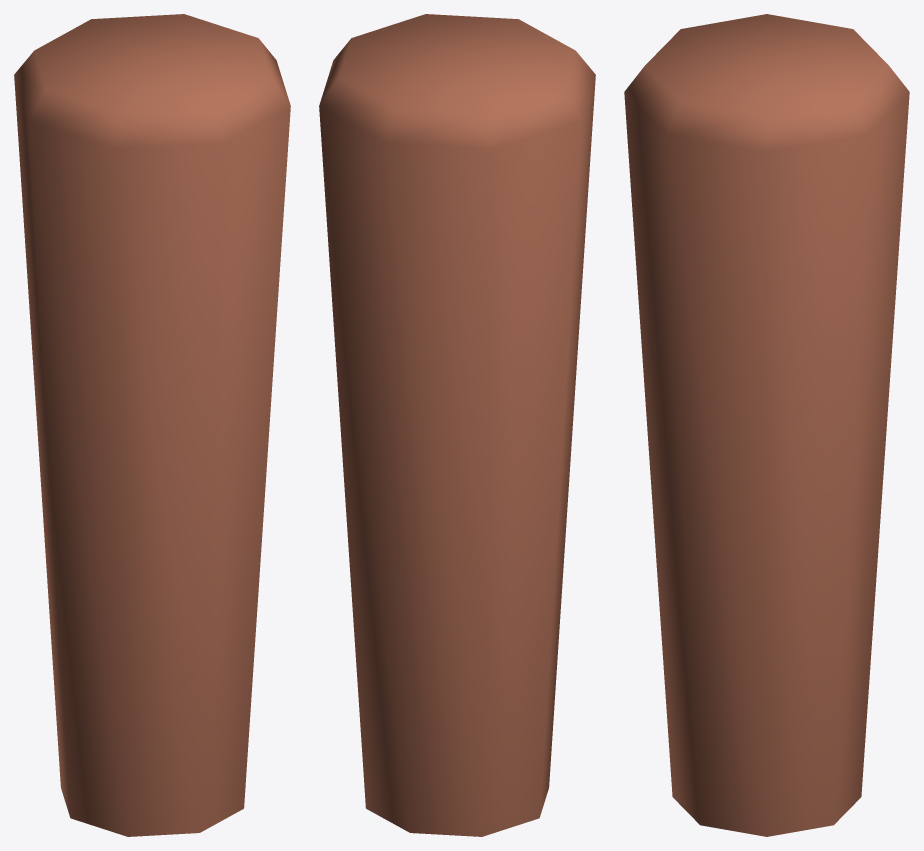
Rendered from Fence_Post_01.fbx.
3 renders of one model, left to right at view 1: azimuth 30°, elevation 25°; view 2: azimuth 150°, elevation 25°; view 3: azimuth 270°, elevation 25°, orthographic.
Parts seen in each view (by area): view 1: Fence_Post_01; view 2: Fence_Post_01; view 3: Fence_Post_01.
Part boxes in pixels (<box>): Fence_Post_01: <box>14,14,290,836</box>; Fence_Post_01: <box>319,14,595,836</box>; Fence_Post_01: <box>624,14,909,836</box>.
Bounding box in the file's own units: 48.73 × 138 × 48.73.
